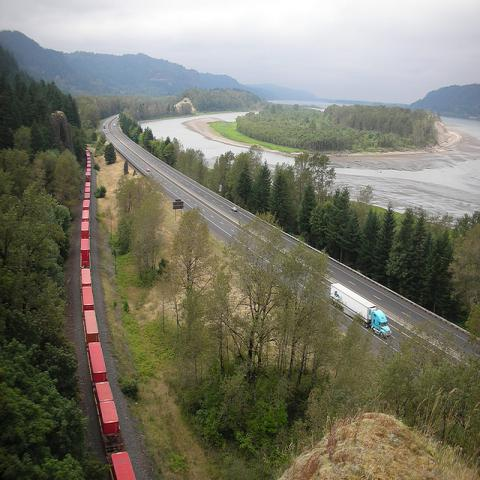car: (230, 207, 238, 212), (146, 168, 150, 172), (113, 123, 116, 127), (105, 132, 108, 134)
truck: (330, 282, 392, 338)
